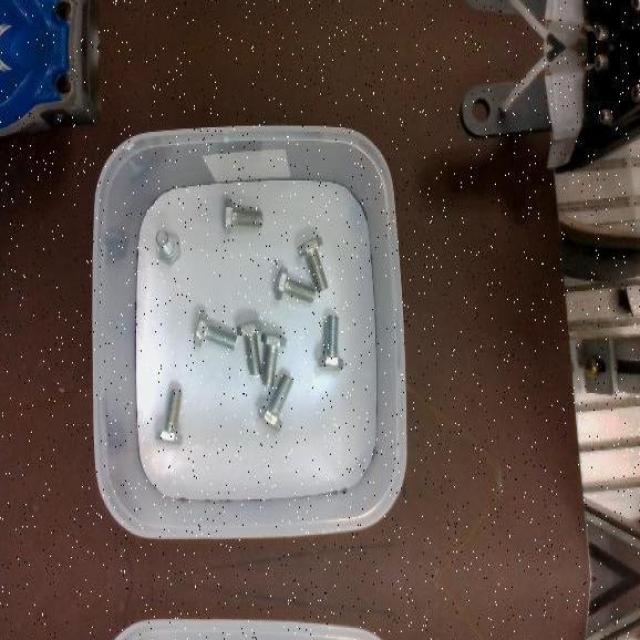screw: (258, 373, 296, 431), (298, 235, 328, 292), (273, 264, 318, 302), (193, 312, 238, 350), (260, 331, 288, 389), (155, 386, 183, 444), (317, 314, 344, 372), (222, 197, 264, 234), (236, 319, 261, 374), (156, 228, 180, 266)
